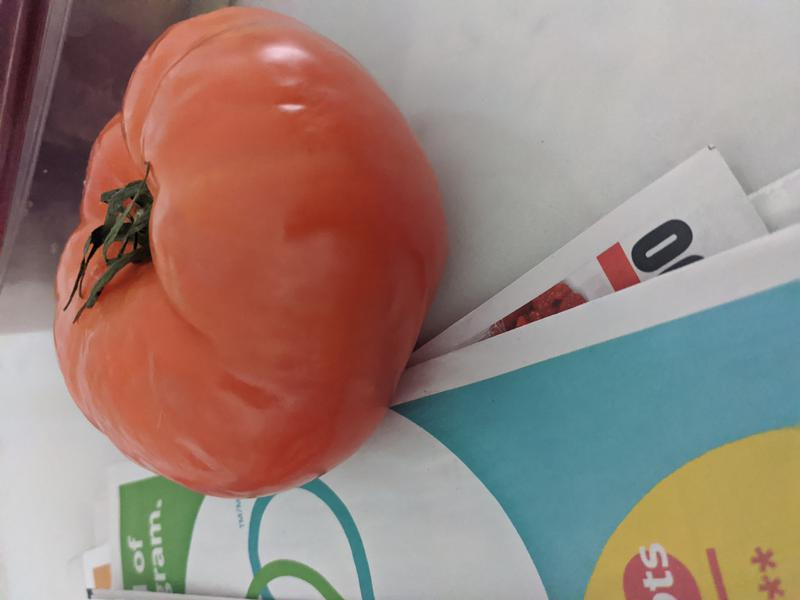tomato: (51, 6, 450, 499)
